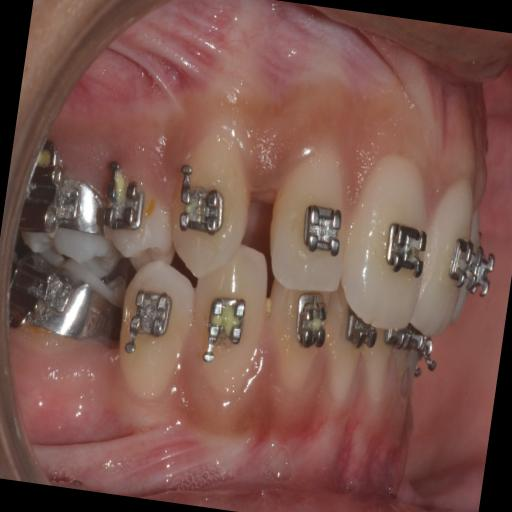correct_brace: (112, 260, 192, 392), (176, 165, 232, 242), (122, 286, 180, 360), (380, 213, 430, 280), (296, 196, 347, 259)
incorrect_brace: (264, 140, 360, 294)
